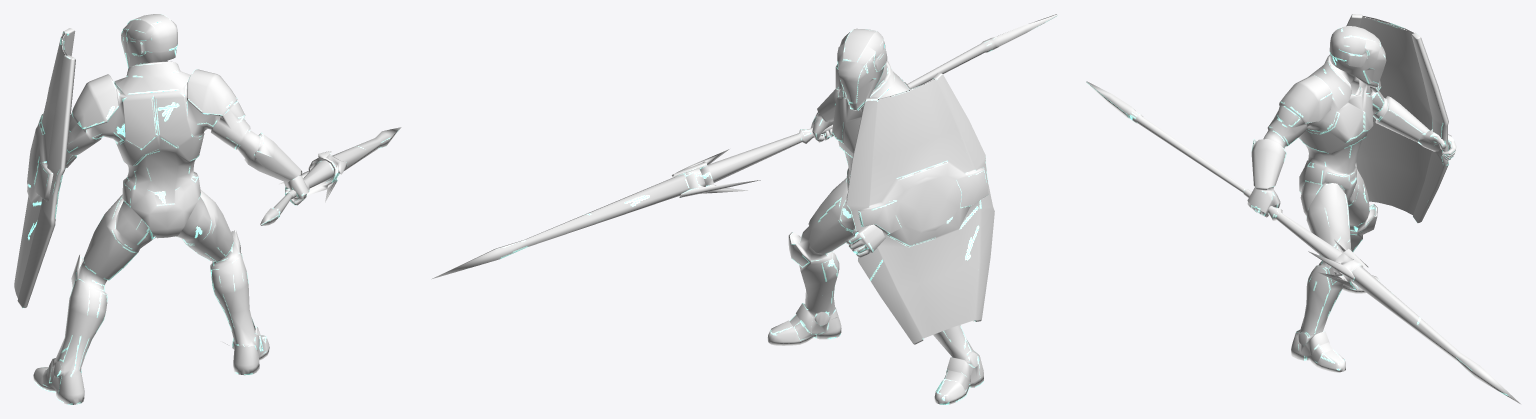
Rendered from piquier_v3.glb.
The picture shows the model from 3 angles, left to right: view 1: azimuth 30°, elevation 25°; view 2: azimuth 150°, elevation 25°; view 3: azimuth 270°, elevation 25°; orthographic projection. The views are drawn at different scales.
Parts seen in each view (by area): view 1: piquier_v3; view 2: piquier_v3; view 3: piquier_v3.
Part boxes in pixels (<box>): piquier_v3: <box>14,14,401,404</box>; piquier_v3: <box>431,14,1057,404</box>; piquier_v3: <box>1086,14,1520,403</box>.
Size of the model in its own units: 3.7 by 2.6 by 3.43.
1 material, 1 textured.
